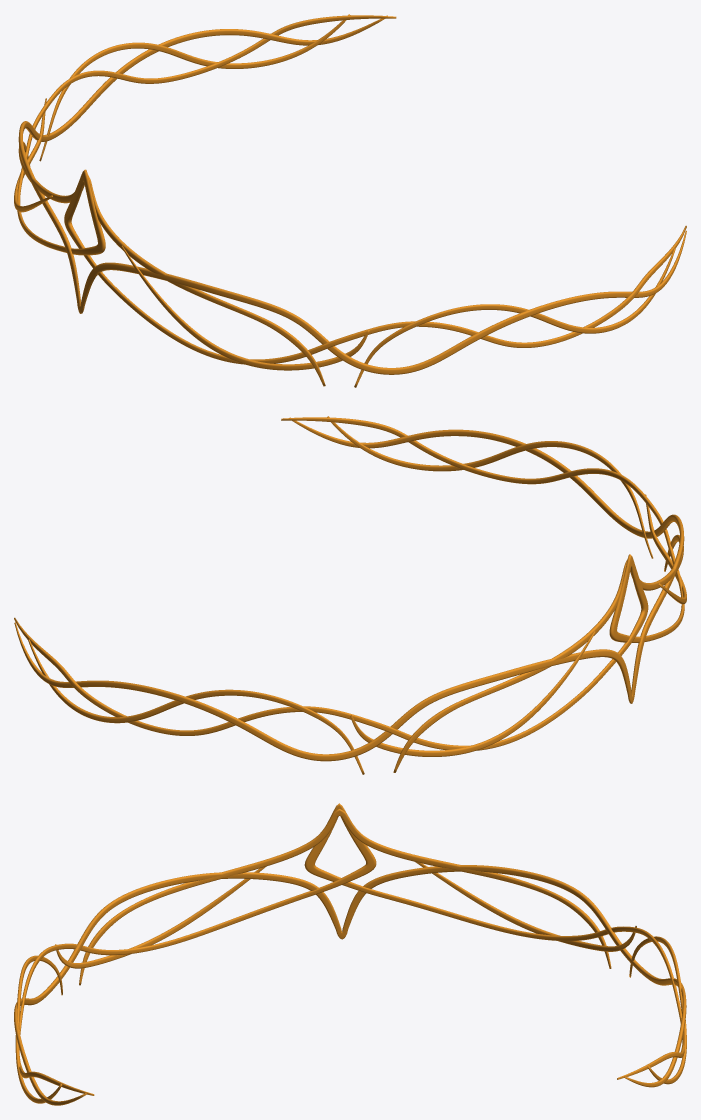
File: kanmuri_hidari_modori.fbx
3 renders of one model, top to bottom at view 1: azimuth 30°, elevation 25°; view 2: azimuth 150°, elevation 25°; view 3: azimuth 270°, elevation 25°, orthographic. The views are drawn at different scales.
Parts seen in each view (by area): view 1: diadema.001; view 2: diadema.001; view 3: diadema.001.
Boxes of the visible parts, box(x1,y1,x2,y2) form: diadema.001: box(14, 14, 686, 387); diadema.001: box(14, 416, 686, 774); diadema.001: box(14, 803, 686, 1105).
Size of the model in its own units: 971 by 282 by 1252.
